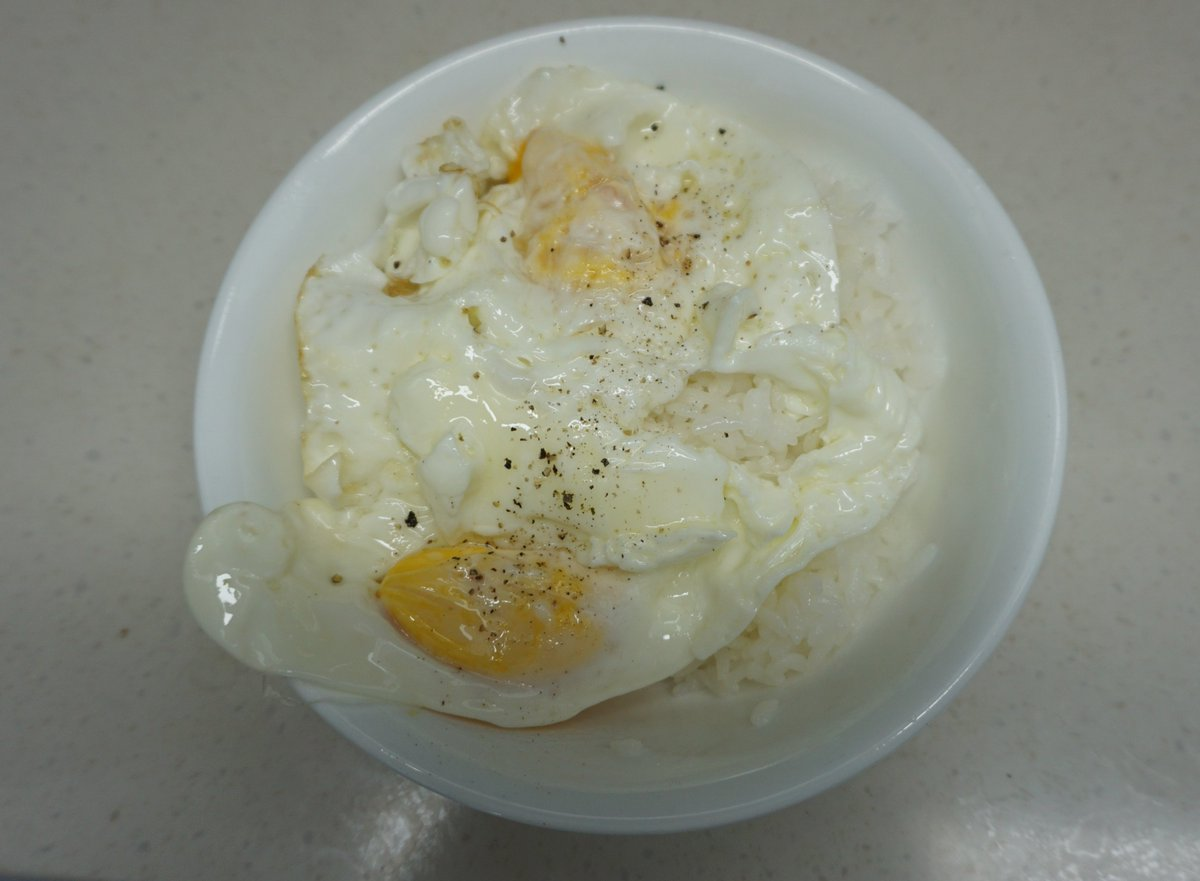gyelanhulai: (294, 69, 906, 737)
